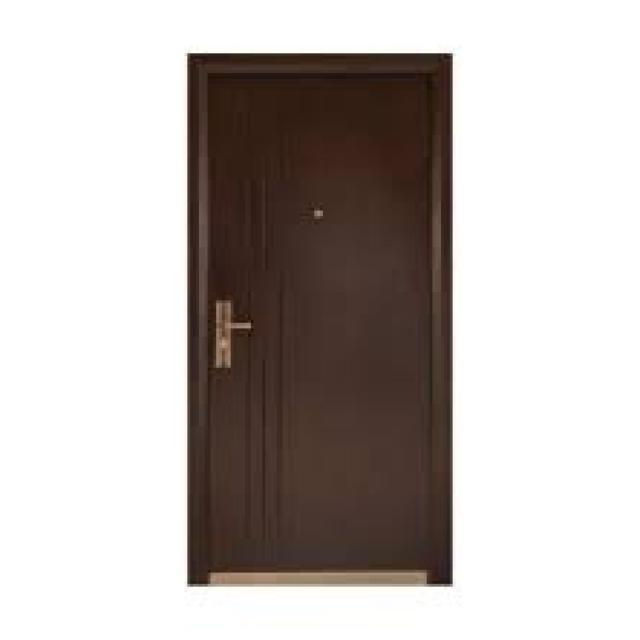door: (186, 52, 454, 586)
